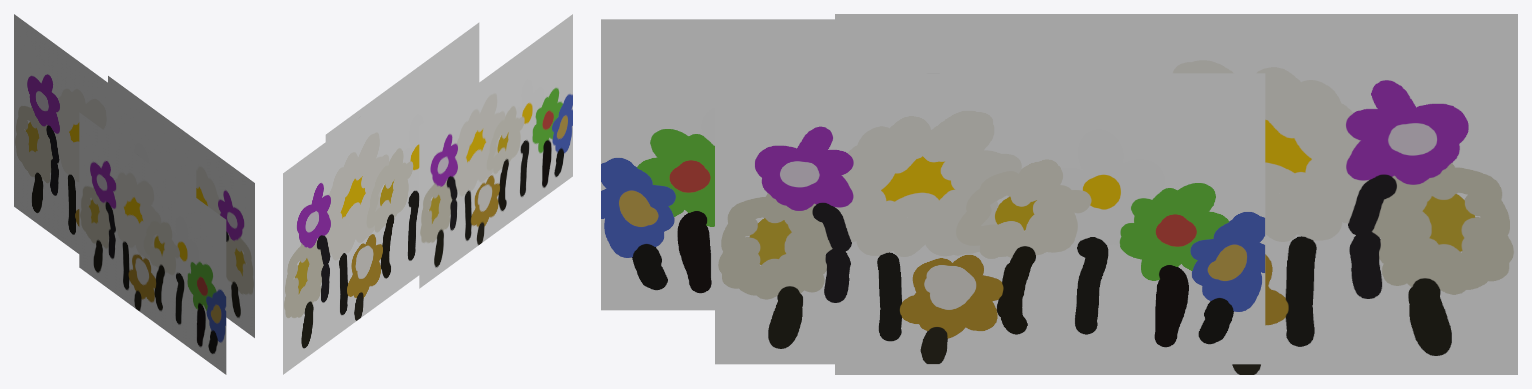
The model's file is Flower0.glb.
The picture shows the model from 3 angles, left to right: view 1: azimuth 30°, elevation 25°; view 2: azimuth 150°, elevation 25°; view 3: azimuth 270°, elevation 25°; orthographic projection. The views are drawn at different scales.
Visible parts, largest first — view 1: Flower2; view 2: Flower2; view 3: Flower2.
Boxes of the visible parts, x1,y1,x2,y2 form: Flower2: [14, 14, 254, 374]; Flower2: [283, 14, 572, 374]; Flower2: [601, 14, 1517, 374].
Size of the model in its own units: 0.4648 by 1.45 by 3.33.
1 material, 1 textured.
